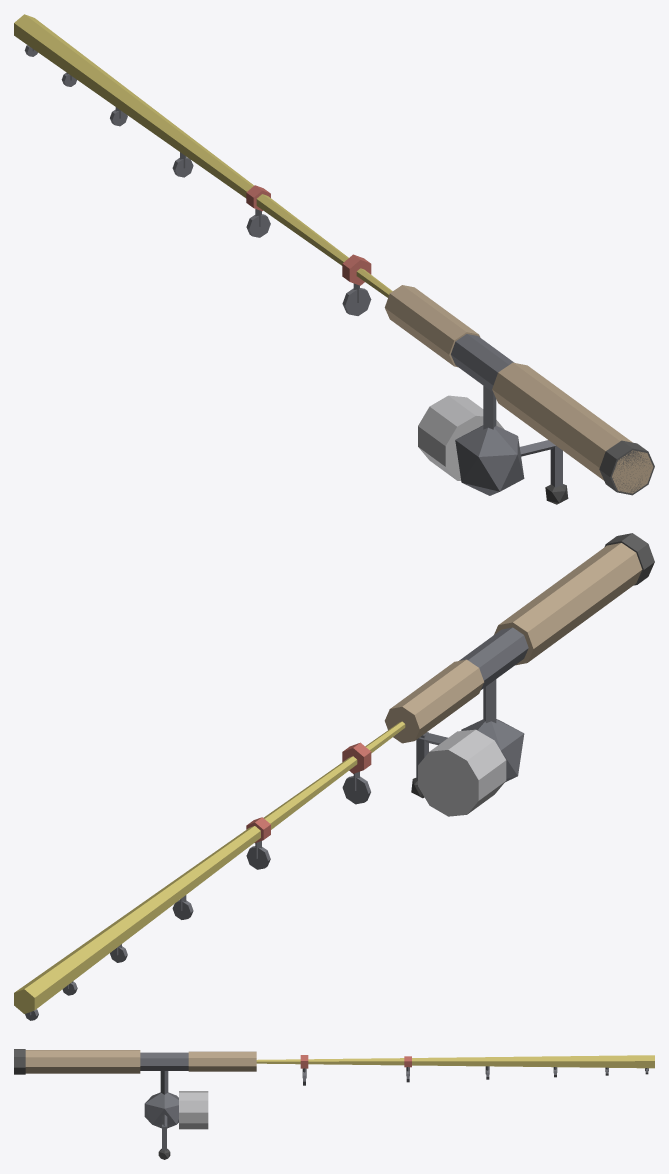
The model's file is FiberglassRod.glb.
3 views of the same model, one above another, from view 1: azimuth 30°, elevation 25°; view 2: azimuth 150°, elevation 25°; view 3: azimuth 270°, elevation 25° (orthographic). The views are drawn at different scales.
Parts seen in each view (by area): view 1: FiberglassRod; view 2: FiberglassRod; view 3: FiberglassRod.
Part boxes in pixels (<box>): FiberglassRod: <box>14,14,654,504</box>; FiberglassRod: <box>14,533,654,1020</box>; FiberglassRod: <box>14,1049,654,1159</box>.
Bounding box in the file's own units: 0.6728 × 1.06 × 6.6.
